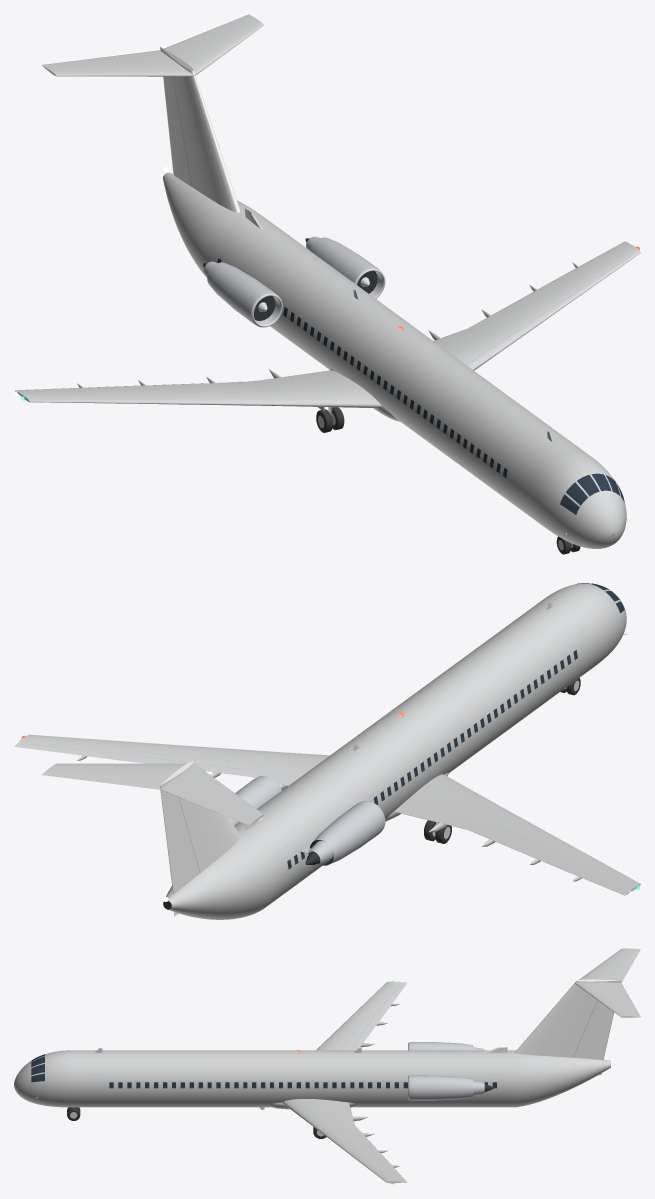
3 views of the same model, one above another, from view 1: azimuth 30°, elevation 25°; view 2: azimuth 150°, elevation 25°; view 3: azimuth 270°, elevation 25° (orthographic). The views are drawn at different scales.
Visible parts, largest first — view 1: airframe, gear; view 2: airframe, gear; view 3: airframe.
Part boxes in pixels (x1=…): airframe: x1=14, y1=14, x2=640, y2=548; gear: x1=316, y1=407, x2=580, y2=554; airframe: x1=14, y1=583, x2=640, y2=919; gear: x1=424, y1=678, x2=580, y2=843; airframe: x1=14, y1=948, x2=640, y2=1184.
Size of the model in its own units: 28.41 by 9.07 by 37.28.
